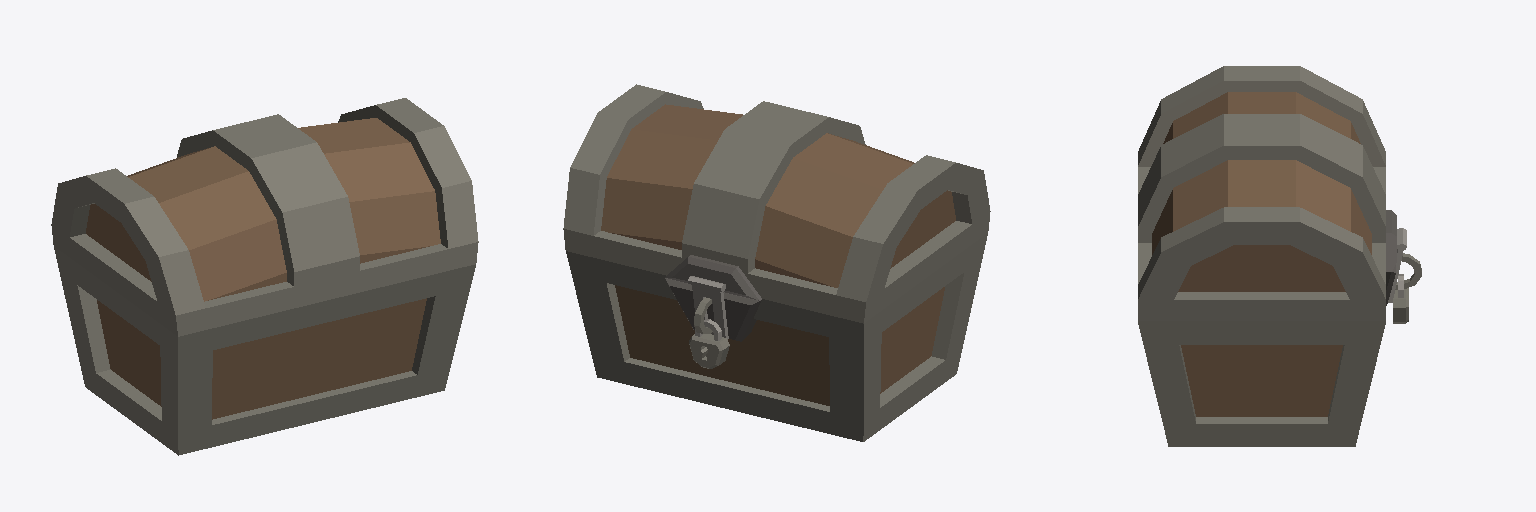
Rendered from Beach_Prop_Treasure_Chest.obj.
3 views of the same model, side by side, from view 1: azimuth 30°, elevation 25°; view 2: azimuth 150°, elevation 25°; view 3: azimuth 270°, elevation 25° (orthographic).
Parts seen in each view (by area): view 1: object4, object2; view 2: object4, object2, object3, object1; view 3: object4, object2, object3.
Part boxes in pixels (x1,y1,x2,y2): object4: (51,98,478,336); object2: (54,246,475,455); object4: (563,84,990,323); object2: (566,233,987,441); object3: (689,319,729,368); object1: (688,276,728,339); object4: (1138,66,1396,320); object2: (1138,253,1421,446); object3: (1393,274,1408,323).
Size of the model in its own units: 0.9714 by 0.7334 by 0.7495.